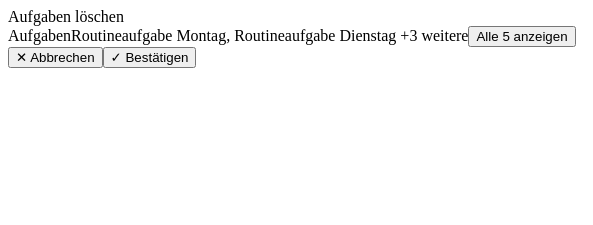
it: ApprovalCard detail values › collapses an array with a count and expands to one item per line
Click the button "Alle 5 anzeigen" at point(522, 36), box left=468, top=26, right=576, bottom=47
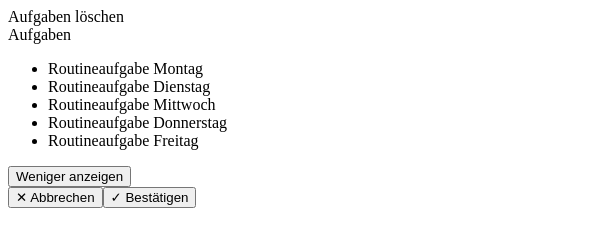
Expected: the number of list items is 5, left=48, top=60, right=203, bottom=77; left=48, top=78, right=210, bottom=95; left=48, top=96, right=216, bottom=113; left=48, top=114, right=227, bottom=131; left=48, top=132, right=199, bottom=149
Expected: the button "Weniger anzeigen" is expanded
Click the button "Weniger anzeigen" at point(70, 176), box left=8, top=166, right=131, bottom=187
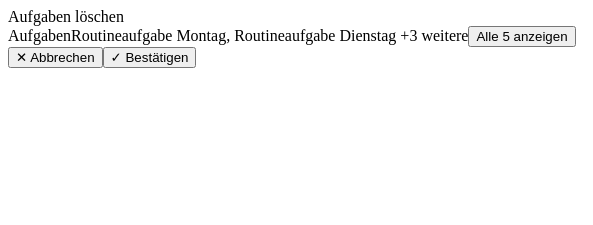
Expected: no list items are shown
